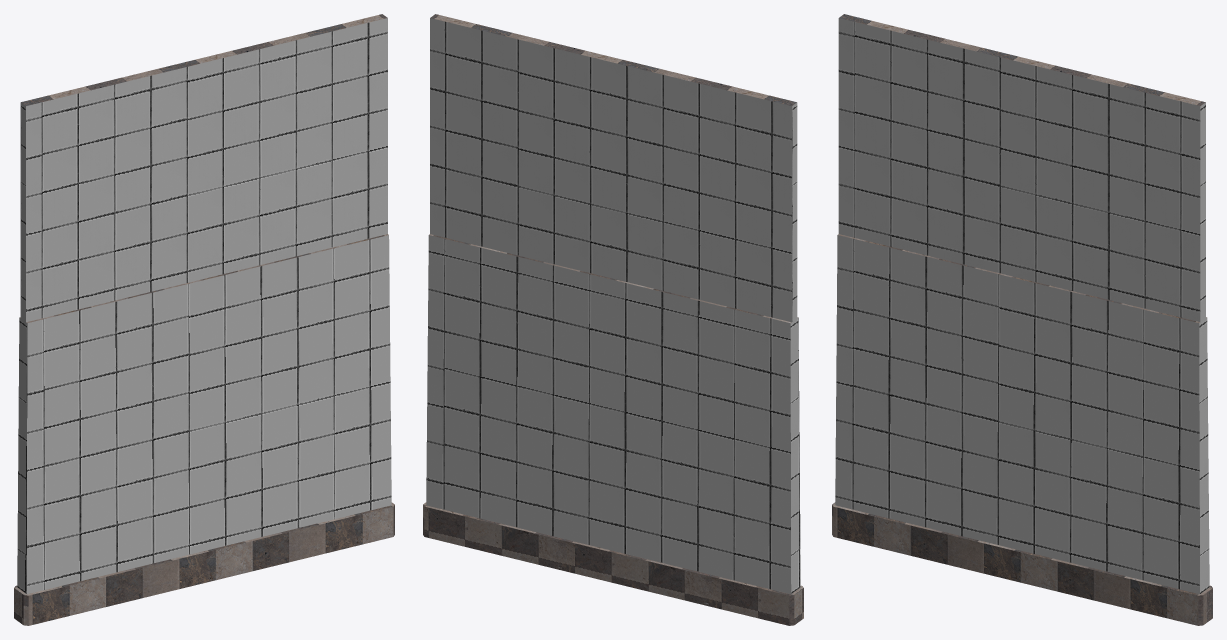
File: bathroom_wallblend.glb
3 views of the same model, side by side, from view 1: azimuth 30°, elevation 25°; view 2: azimuth 150°, elevation 25°; view 3: azimuth 330°, elevation 25° (orthographic).
Parts seen in each view (by area): view 1: WallMailRoom; view 2: WallMailRoom; view 3: WallMailRoom.
Boxes of the visible parts, x1,y1,x2,y2 form: WallMailRoom: (14,14,394,625); WallMailRoom: (423,14,803,625); WallMailRoom: (832,14,1212,625).
Bounding box in the file's own units: 5.84 × 7.76 × 0.3607.
Materials: 1 (1 with a texture image).
